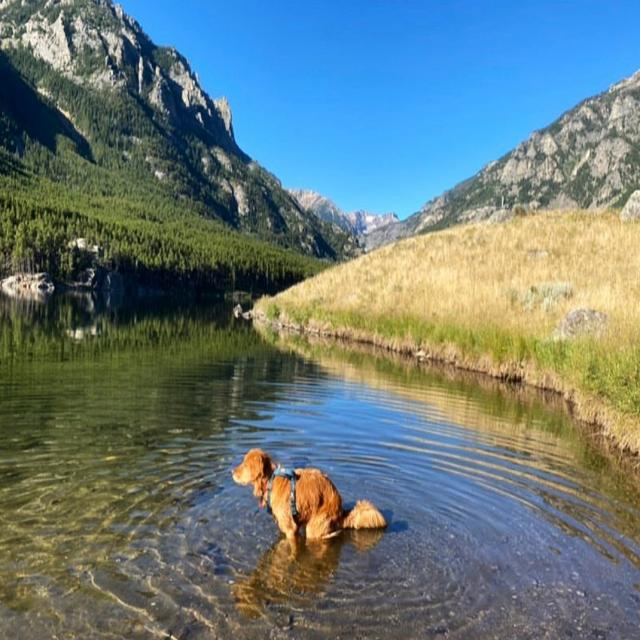squatting: (226, 440, 390, 566)
